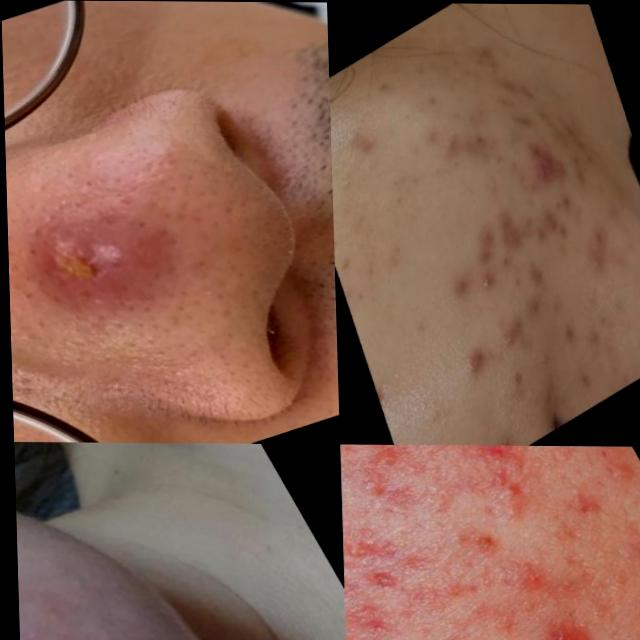8: (517, 117, 573, 207), (508, 598, 613, 640), (441, 330, 497, 408), (576, 233, 611, 289)
blackheads: (336, 444, 448, 533), (547, 445, 640, 512), (338, 515, 402, 578), (347, 556, 414, 608), (589, 514, 640, 579)
dark spot: (438, 142, 467, 184), (357, 212, 380, 246), (506, 270, 527, 300), (348, 278, 366, 305), (495, 248, 513, 270)
pustules: (4, 172, 217, 346)
